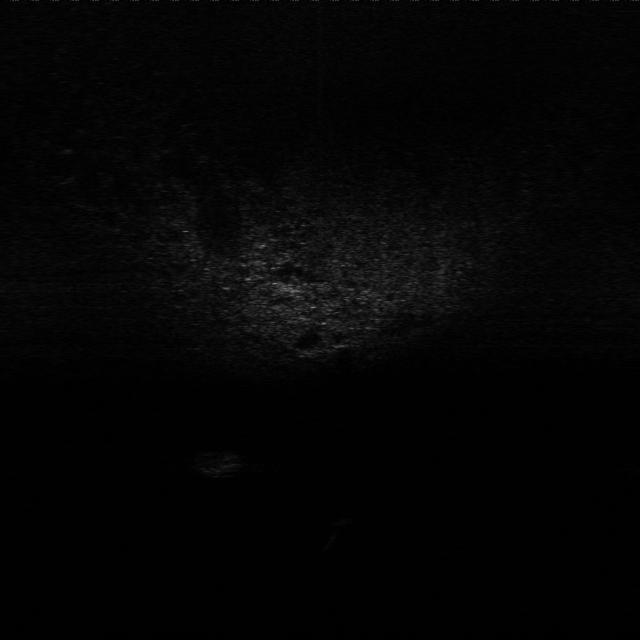circle cage: (193, 447, 253, 480)
